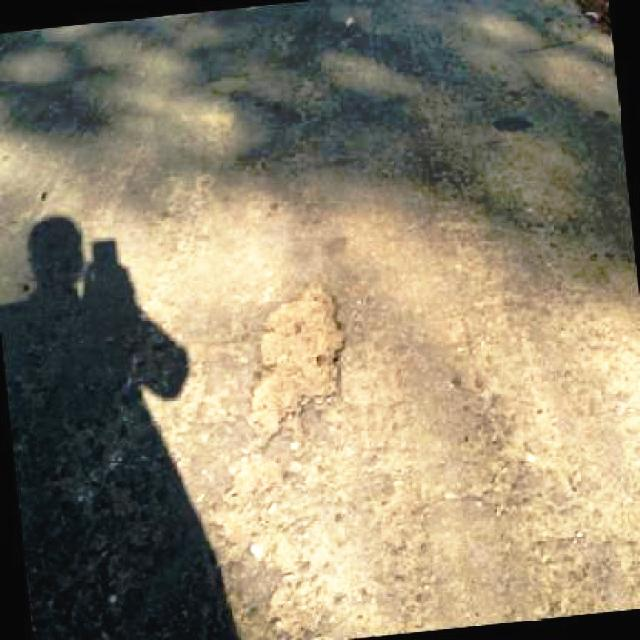pothole: (211, 449, 329, 640), (252, 280, 354, 426), (504, 463, 598, 619)
